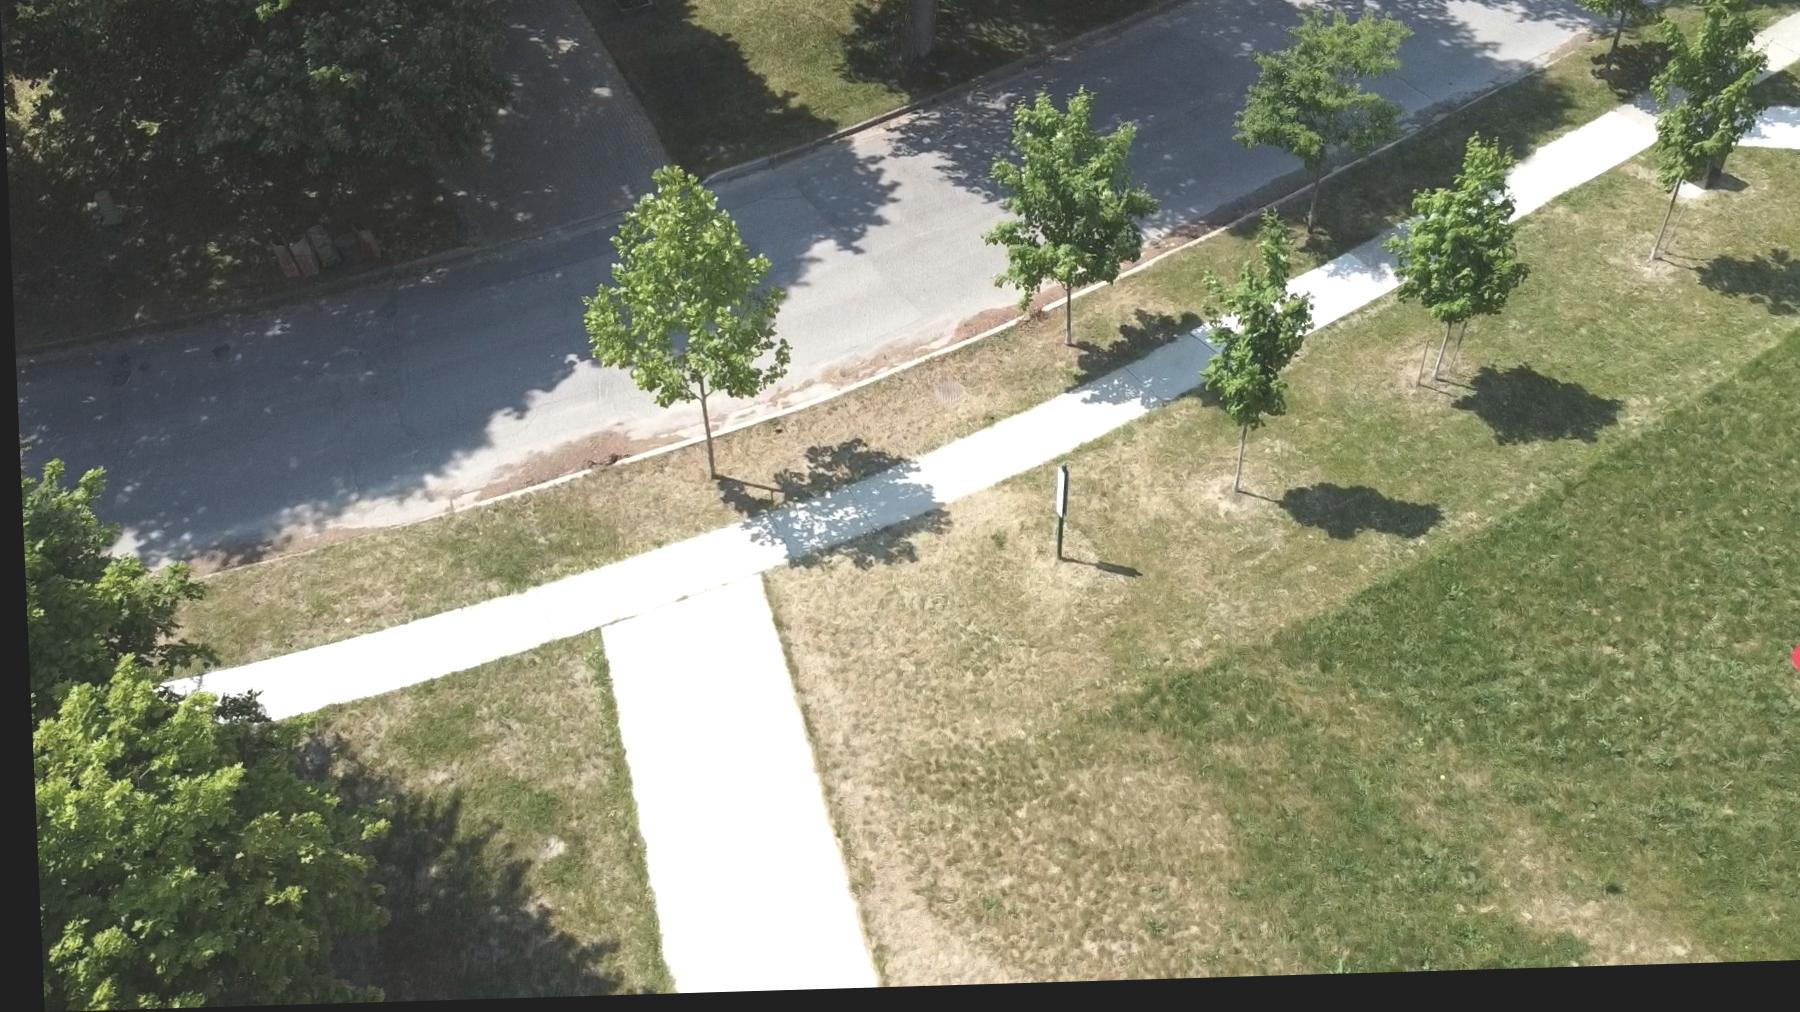Red: (1783, 654, 1800, 691)
